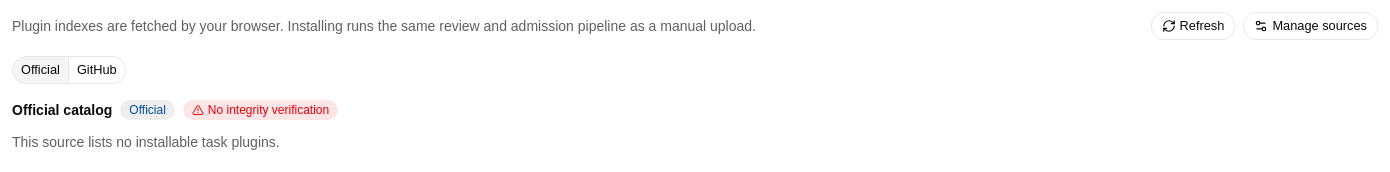
MarketplacePanel source switch › loads GitHub only after the administrator switches to it
Expected: the heading "Official catalog" is shown, top-left (12, 100), bottom-right (112, 120)
Click the button "GitHub". click: (97, 70)
box: top-left (69, 56), bottom-right (126, 84)
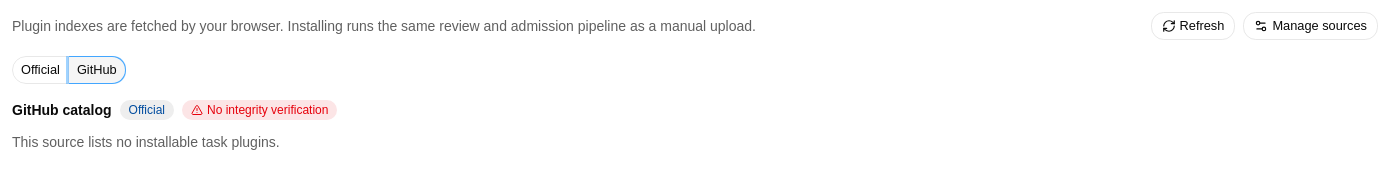
Expected: the heading "GitHub catalog" is shown, top-left (12, 100), bottom-right (112, 120)
Expected: the heading "Official catalog" is gone
